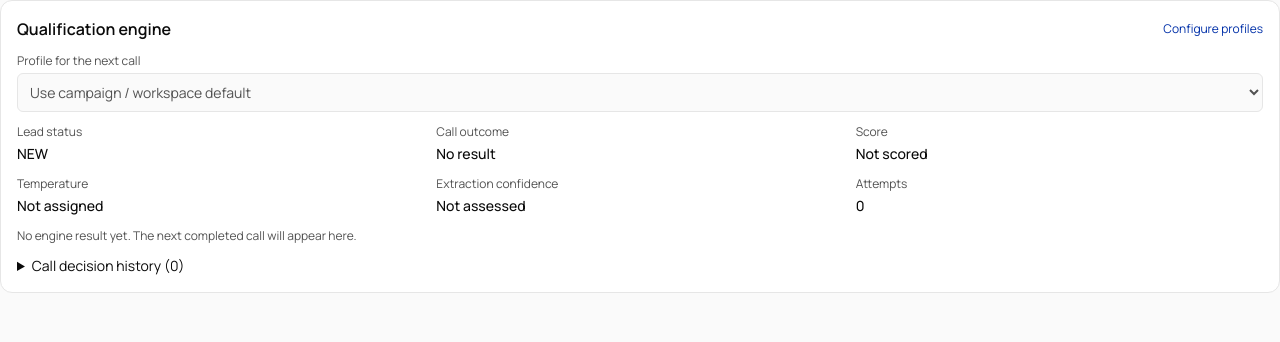
Test: failed assignment retains the selected profile and shows an error
Select "Software" in the dropdown labelled "Profile for the next call" at (640, 92), box [17,73,1263,112]
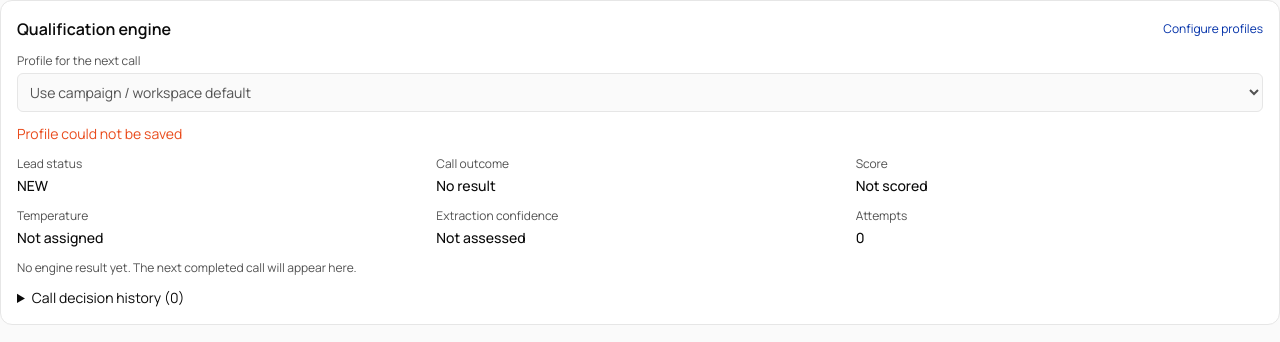
Expected: the text "Profile could not be saved" is shown, [17,124,182,143]
